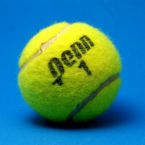tennis ball: (11, 16, 125, 131)
